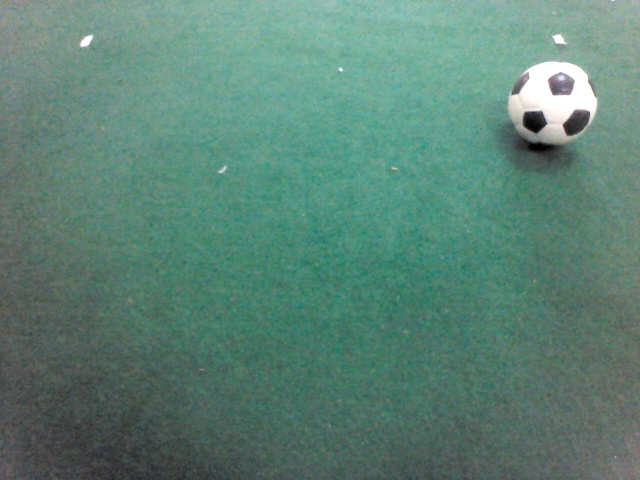ball: (506, 60, 600, 148)
